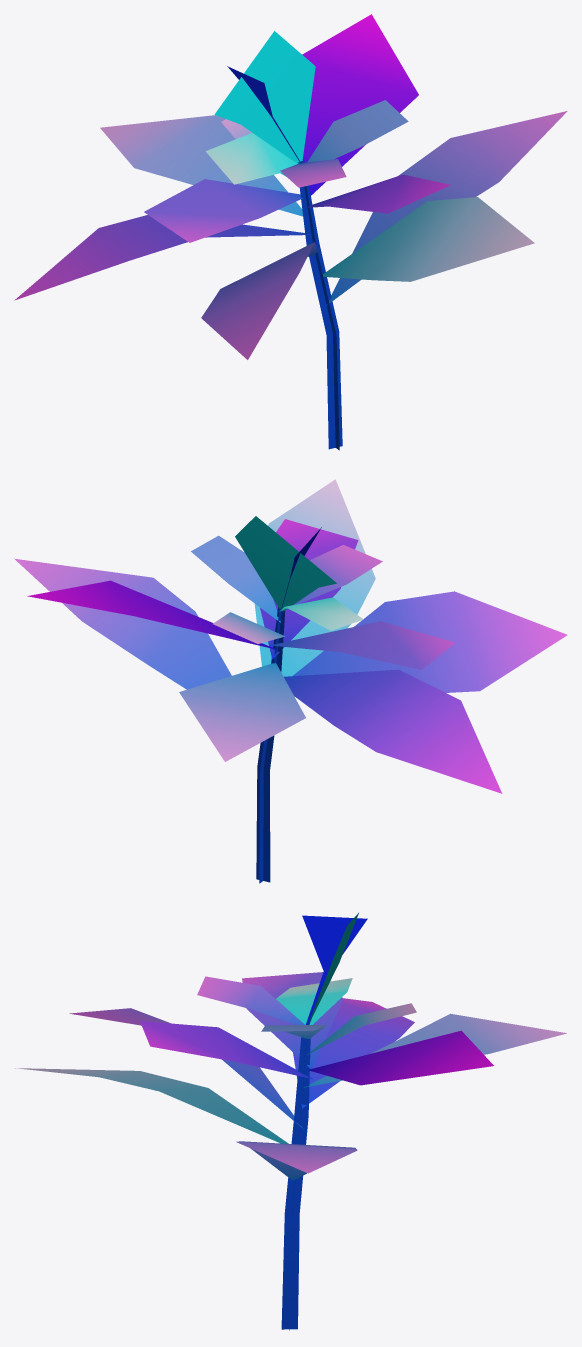
Rendered from xefmcgrqx_VarB_LOD1.fbx.
3 views of the same model, one above another, from view 1: azimuth 30°, elevation 25°; view 2: azimuth 150°, elevation 25°; view 3: azimuth 270°, elevation 25° (orthographic).
Parts seen in each view (by area): view 1: _zail_VarB_LOD4; view 2: _zail_VarB_LOD4; view 3: _zail_VarB_LOD4.
Part boxes in pixels (<box>): _zail_VarB_LOD4: <box>14,14,567,450</box>; _zail_VarB_LOD4: <box>14,479,567,883</box>; _zail_VarB_LOD4: <box>15,913,566,1330</box>.
Size of the model in its own units: 40.15 by 29.27 by 36.36.
